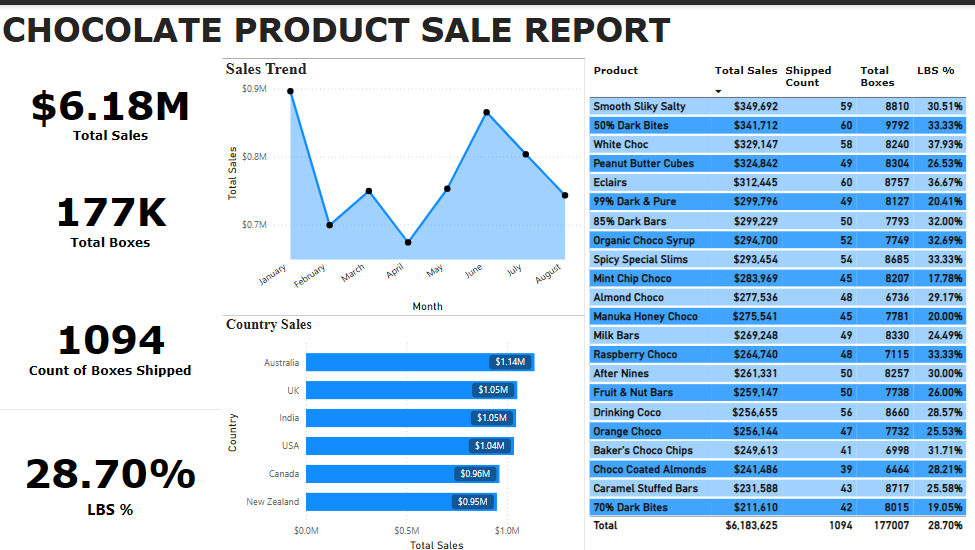

The page's visual inventory and layout, read from the dashboard file:
{"tool":"powerbi","page":{"name":"Page 1","canvas":[1280,720],"ordinal":0},"visuals":[{"type":"card","fields":{"Values":["chocolate_sales chocolate_sale_1.Total Sales"]},"box":[0,69.5,294.1,137.5],"z":0},{"type":"textbox","box":[0,0,1280,70],"z":1000},{"type":"card","fields":{"Values":["chocolate_sales chocolate_sale_1.Total Boxes"]},"box":[0,195.4,293.9,164.6],"z":2000},{"type":"card","fields":{"Values":["CountNonNull(chocolate_sales chocolate_sale_1.Boxes Shipped)"]},"box":[0,360,293.9,170.4],"z":3000},{"type":"card","fields":{"Values":["chocolate_sales chocolate_sale_1.LBS %"]},"box":[0,530.4,293.9,189.6],"z":4000},{"type":"barChart","title":"Country Sales","fields":{"Category":["chocolate_sales chocolate_sale_1.Country"],"Y":["chocolate_sales chocolate_sale_1.Total Sales"]},"box":[293.9,407,474.6,313],"z":5000},{"type":"areaChart","title":"Sales Trend","fields":{"Category":["chocolate_sales chocolate_sale_1.Date.Variation.Date Hierarchy.Year","chocolate_sales chocolate_sale_1.Date.Variation.Date Hierarchy.Month"],"Y":["chocolate_sales chocolate_sale_1.Total Sales"]},"box":[293.9,70.5,474.6,336.5],"z":6000},{"type":"tableEx","fields":{"Values":["chocolate_sales chocolate_sale_1.Product","chocolate_sales chocolate_sale_1.Total Sales","chocolate_sales chocolate_sale_1.Shipment Count","chocolate_sales chocolate_sale_1.Total Boxes","chocolate_sales chocolate_sale_1.LBS %"]},"box":[768.5,69.1,511.3,650.9],"z":7000}]}

Visuals, with their boxes in screenshot pixels (x1, y1, x2, y2), scaled from the page's 1280x720 canvas onto the 975x550 screenshot:
card - chocolate_sales chocolate_sale_1.Total Sales: <bbox>0, 53, 224, 158</bbox>
textbox: <bbox>0, 0, 974, 53</bbox>
card - chocolate_sales chocolate_sale_1.Total Boxes: <bbox>0, 149, 224, 275</bbox>
card - CountNonNull(chocolate_sales chocolate_sale_1.Boxes Shipped): <bbox>0, 275, 224, 405</bbox>
card - chocolate_sales chocolate_sale_1.LBS %: <bbox>0, 405, 224, 549</bbox>
"Country Sales" barChart: <bbox>224, 311, 585, 549</bbox>
"Sales Trend" areaChart: <bbox>224, 54, 585, 311</bbox>
tableEx - chocolate_sales chocolate_sale_1.Product x chocolate_sales chocolate_sale_1.Total Sales: <bbox>585, 53, 974, 549</bbox>
